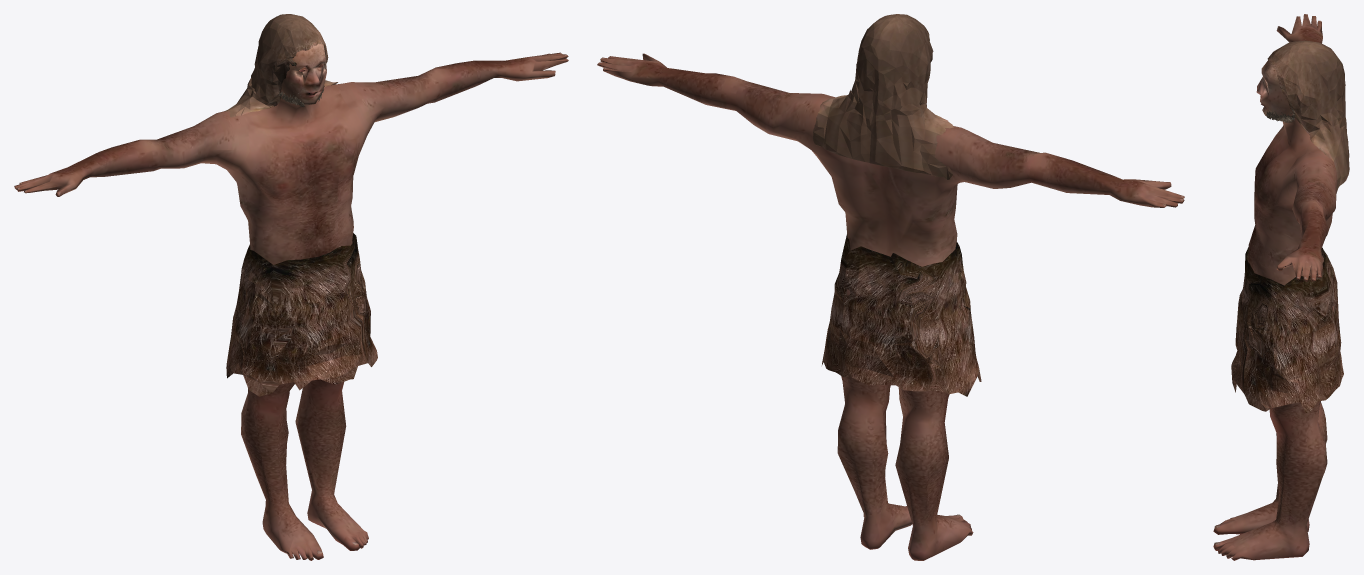
Rendered from person.glb.
3 views of the same model, side by side, from view 1: azimuth 30°, elevation 25°; view 2: azimuth 150°, elevation 25°; view 3: azimuth 270°, elevation 25° (orthographic). The views are drawn at different scales.
Size of the model in its own units: 184 by 162 by 39.93.
Materials: 4 (4 with a texture image).
